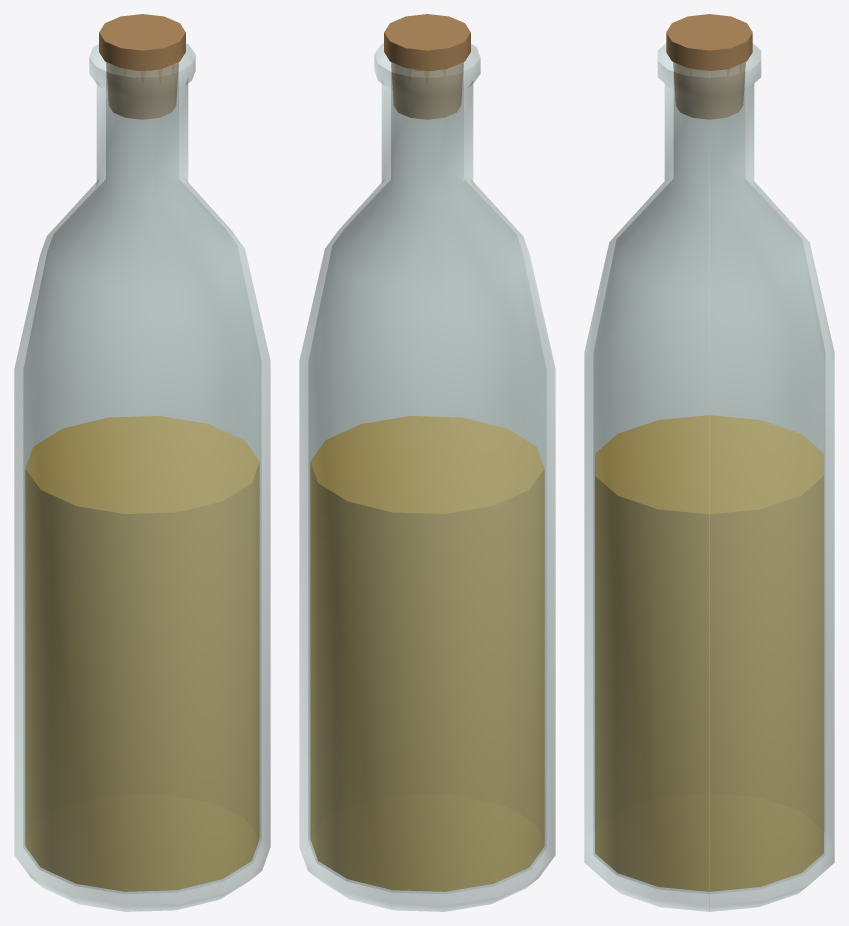
The model's file is oil_bottle.glb.
3 renders of one model, left to right at view 1: azimuth 30°, elevation 25°; view 2: azimuth 150°, elevation 25°; view 3: azimuth 270°, elevation 25°, orthographic.
Parts seen in each view (by area): view 1: body, cork; view 2: body, cork; view 3: body, cork.
Boxes of the visible parts, x1,y1,x2,y2 form: body: (14, 43, 270, 911); cork: (99, 14, 185, 119); body: (299, 43, 555, 911); cork: (384, 14, 470, 119); body: (584, 43, 834, 911); cork: (666, 14, 752, 119).
Bounding box in the file's own units: 0.07 × 0.25 × 0.0682.
